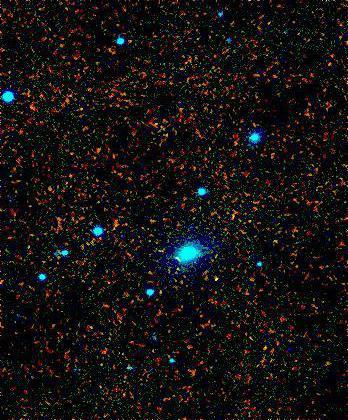star: (247, 333, 277, 363)
